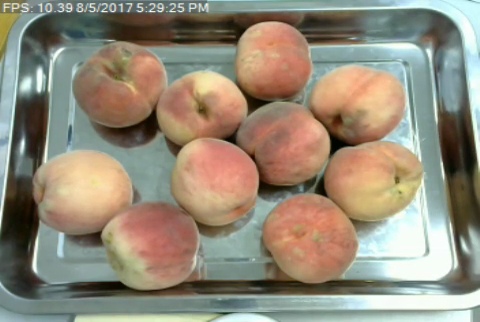Peach: (260, 193, 358, 282), (33, 149, 133, 235), (101, 202, 200, 288), (72, 39, 166, 129), (323, 139, 422, 220), (312, 63, 406, 145), (171, 137, 258, 225), (238, 102, 328, 185), (157, 66, 248, 146), (232, 19, 313, 100)
